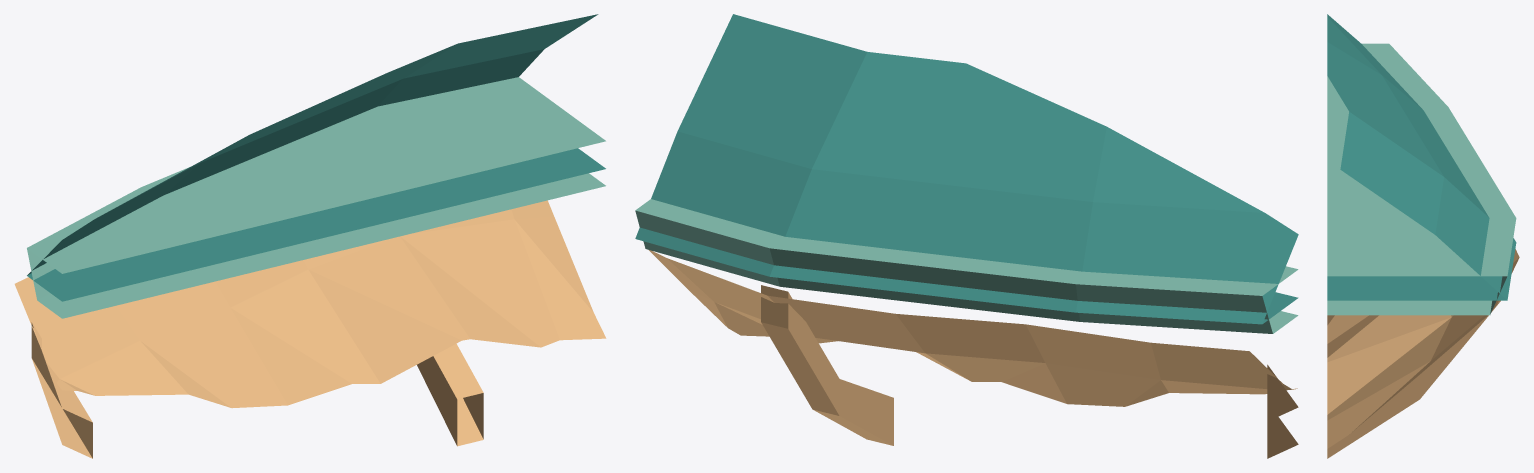
The model's file is cell_236.obj.
3 views of the same model, side by side, from view 1: azimuth 30°, elevation 25°; view 2: azimuth 150°, elevation 25°; view 3: azimuth 270°, elevation 25° (orthographic). The views are drawn at different scales.
Size of the model in its own units: 1 by 0.6856 by 0.3497.
